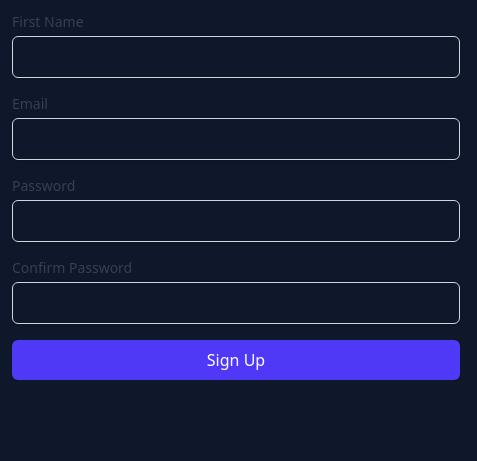
Scenario: SignUpForm › shows loading state during submission
Type "Jane" into the field labelled "First Name" at (236, 57), box [12,36,460,78]
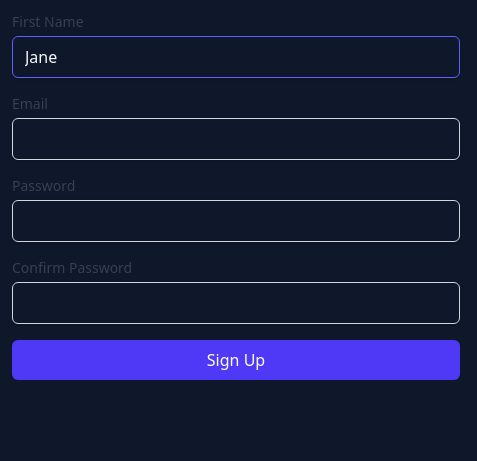
Type "test@example.com" into the field labelled "Email" at (236, 139), box [12,118,460,160]
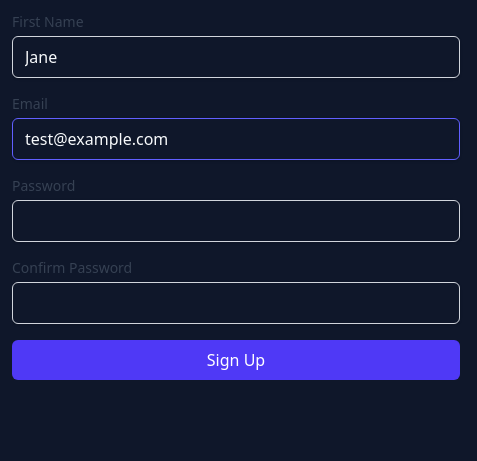
Type "Password123!" into the password field labelled "Password" at (236, 221), box [12,200,460,242]
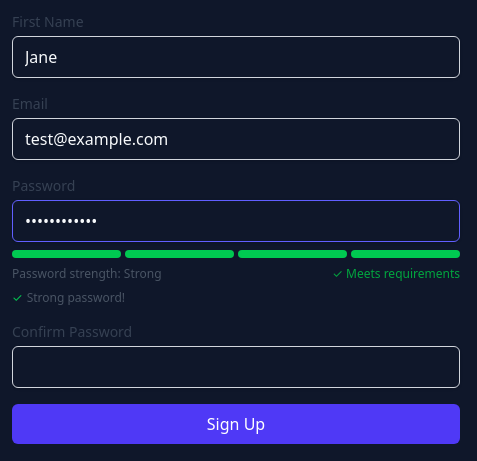
Type "Password123!" into the password field labelled "Confirm Password" at (236, 367), box [12,346,460,388]
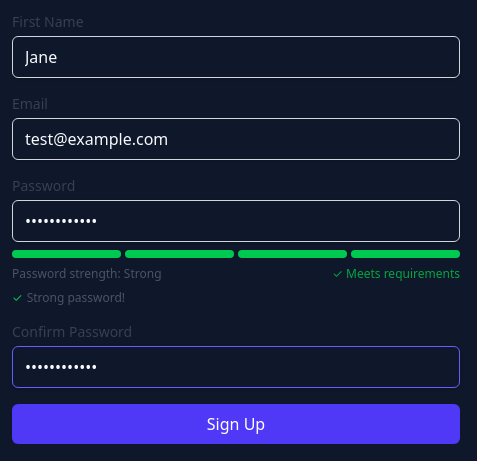
Click the button "Sign Up" at (236, 424), box [12,404,460,444]
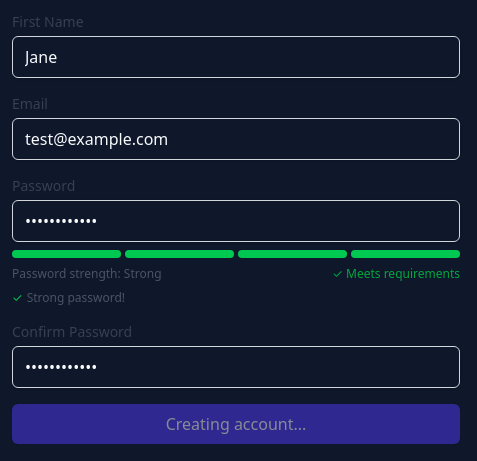
Expected: the button "Creating account..." is shown, [12,404,460,444]
